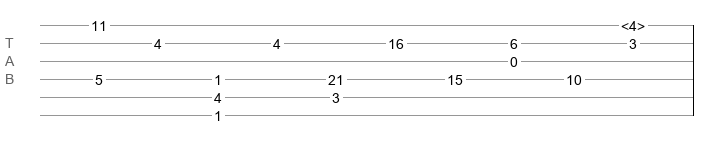0: (510, 54, 518, 64)
1: (214, 72, 222, 82), (214, 108, 222, 118)
10: (566, 72, 582, 82)
11: (91, 18, 107, 28)
15: (447, 72, 463, 82)
16: (388, 36, 404, 46)
21: (328, 72, 344, 82)
3: (332, 90, 340, 100), (629, 36, 637, 46)
4: (154, 36, 162, 46), (214, 90, 222, 100), (273, 36, 281, 46)
5: (95, 72, 103, 82)
6: (510, 36, 518, 46)
harmonic: (621, 18, 645, 28)
